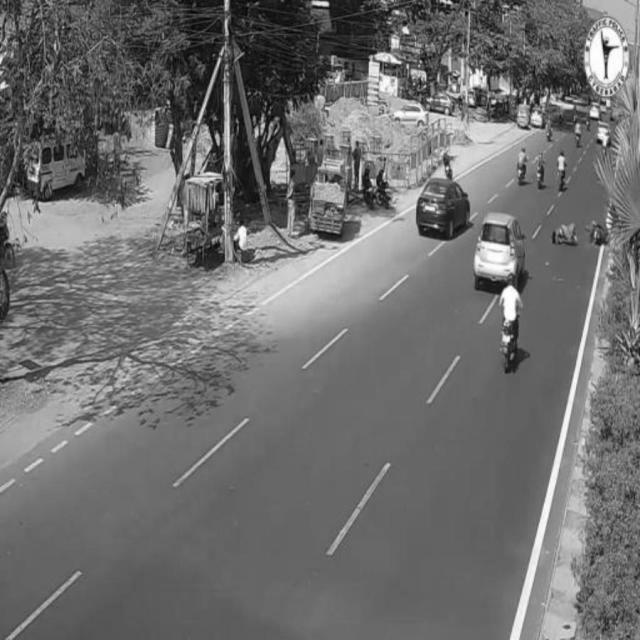person: (553, 220, 580, 250), (286, 168, 296, 240), (351, 142, 361, 196)
vehicle: (476, 215, 528, 293), (413, 179, 471, 240), (499, 272, 523, 375), (555, 147, 570, 194), (515, 145, 530, 190), (534, 148, 546, 190)
